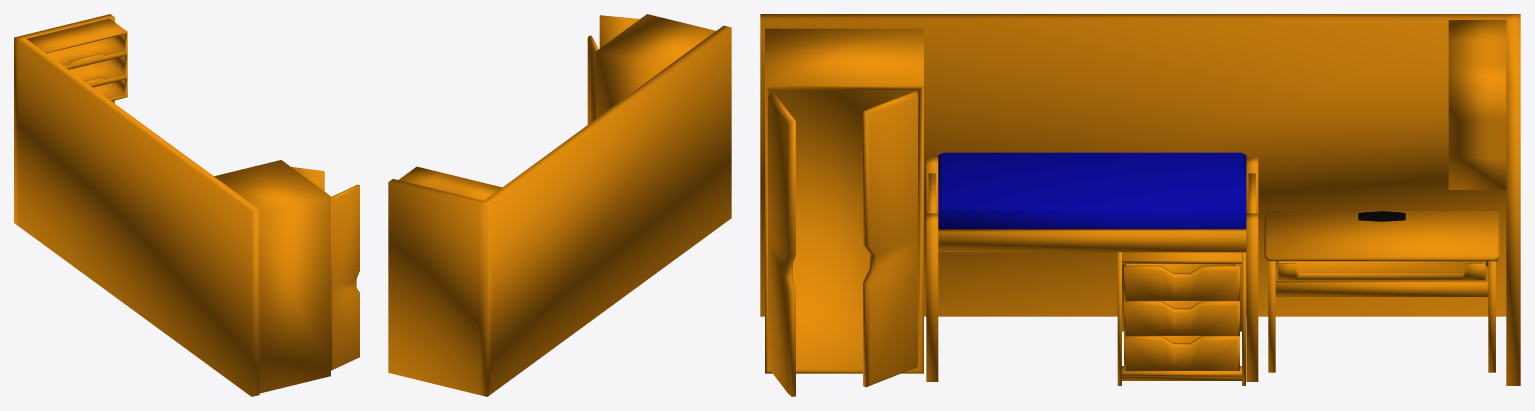
File: Bedroom.fbx
The picture shows the model from 3 angles, left to right: view 1: azimuth 30°, elevation 25°; view 2: azimuth 150°, elevation 25°; view 3: azimuth 270°, elevation 25°; orthographic projection. The views are drawn at different scales.
Visible parts, largest first — view 1: Empty_Mesh; view 2: Empty_Mesh; view 3: Empty_Mesh.
Part boxes in pixels (bbox=[...]): Empty_Mesh: bbox=[14, 14, 359, 396]; Empty_Mesh: bbox=[388, 14, 731, 396]; Empty_Mesh: bbox=[760, 14, 1520, 396].
Size of the model in its own units: 13.82 by 20.74 by 48.16.
